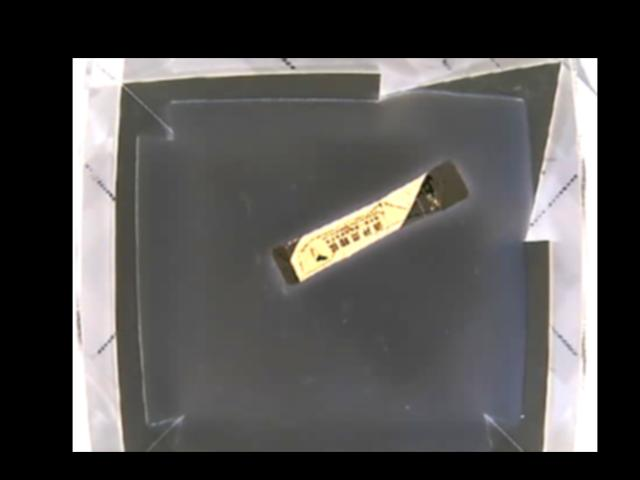Medicine: (268, 161, 470, 290)
